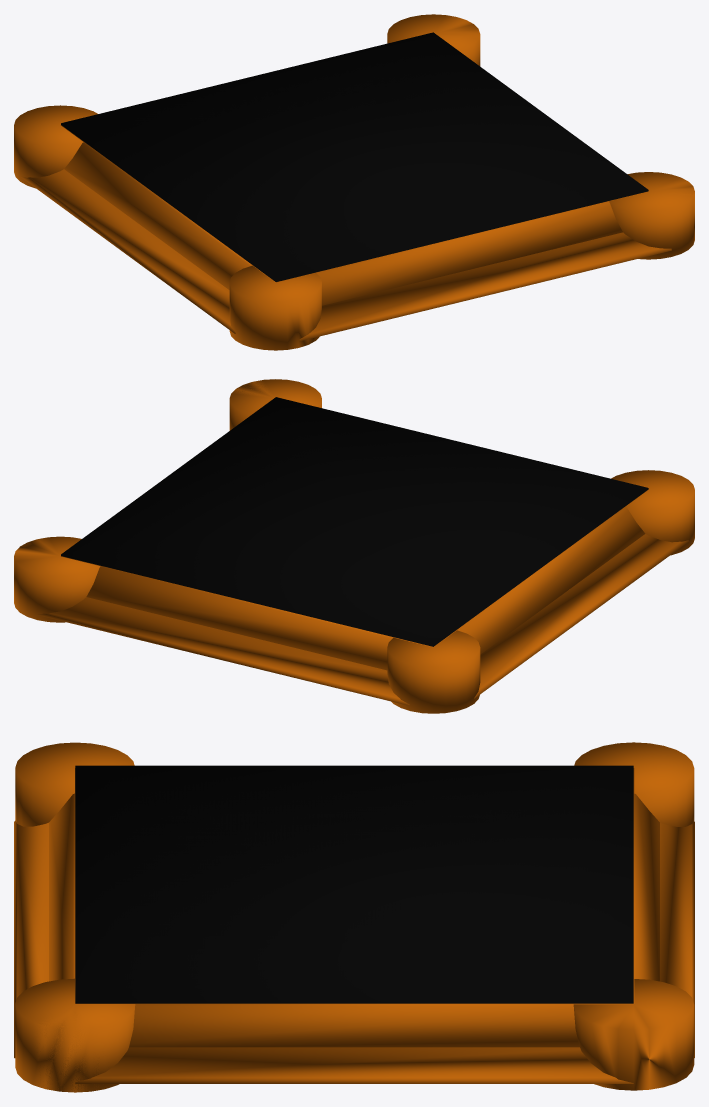
Rendered from Feld-Schwarz-01.fbx.
3 views of the same model, one above another, from view 1: azimuth 30°, elevation 25°; view 2: azimuth 150°, elevation 25°; view 3: azimuth 270°, elevation 25° (orthographic). The views are drawn at different scales.
Visible parts, largest first — view 1: s.0073 (×2), p.0086, p.0095, p.0095_Mirrored, p.0097_Mirrored, p.0097, p.0096; view 2: s.0073 (×2), p.0086, p.0097_Mirrored, p.0097, p.0095, p.0095_Mirrored, p.0096; view 3: s.0073 (×2), p.0086, p.0097, p.0095_Mirrored, p.0097_Mirrored, p.0095, p.0096.
Part boxes in pixels (x1,y1,x2,y2): s.0073 (×2): (61,32,648,281); p.0086: (20,125,671,341); p.0095: (229,265,321,350); p.0095_Mirrored: (609,172,694,259); p.0097_Mirrored: (14,105,97,188); p.0097: (387,14,480,66); p.0096: (609,172,694,258); s.0073 (×2): (61,397,648,646); p.0086: (37,489,689,705); p.0097_Mirrored: (387,630,480,713); p.0097: (14,536,100,622); p.0095: (611,470,694,555); p.0095_Mirrored: (229,379,321,430); p.0096: (230,379,321,427); s.0073 (×2): (75,765,633,1003); p.0086: (14,768,694,1083); p.0097: (573,979,694,1090); p.0095_Mirrored: (15,978,135,1092); p.0097_Mirrored: (574,742,694,826); p.0095: (15,742,134,826); p.0096: (15,979,129,1091).
Size of the model in its own units: 949 by 100 by 949.
